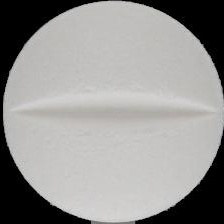51079-957: (0, 0, 224, 224)
